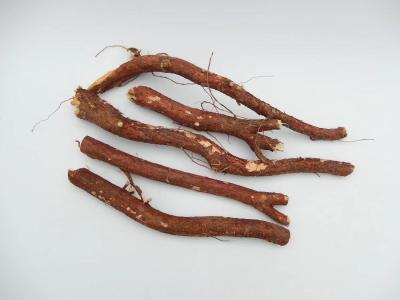Root: (72, 88, 353, 176), (88, 54, 346, 140), (79, 136, 289, 226), (68, 168, 290, 246), (126, 86, 283, 162)
